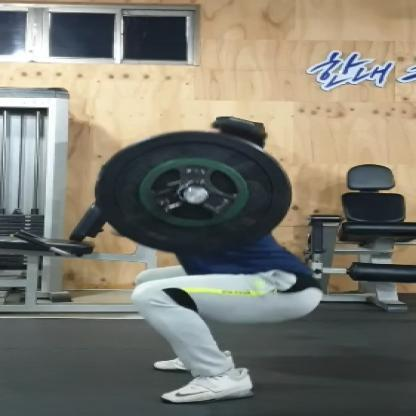Barbell: (182, 189, 213, 206)
